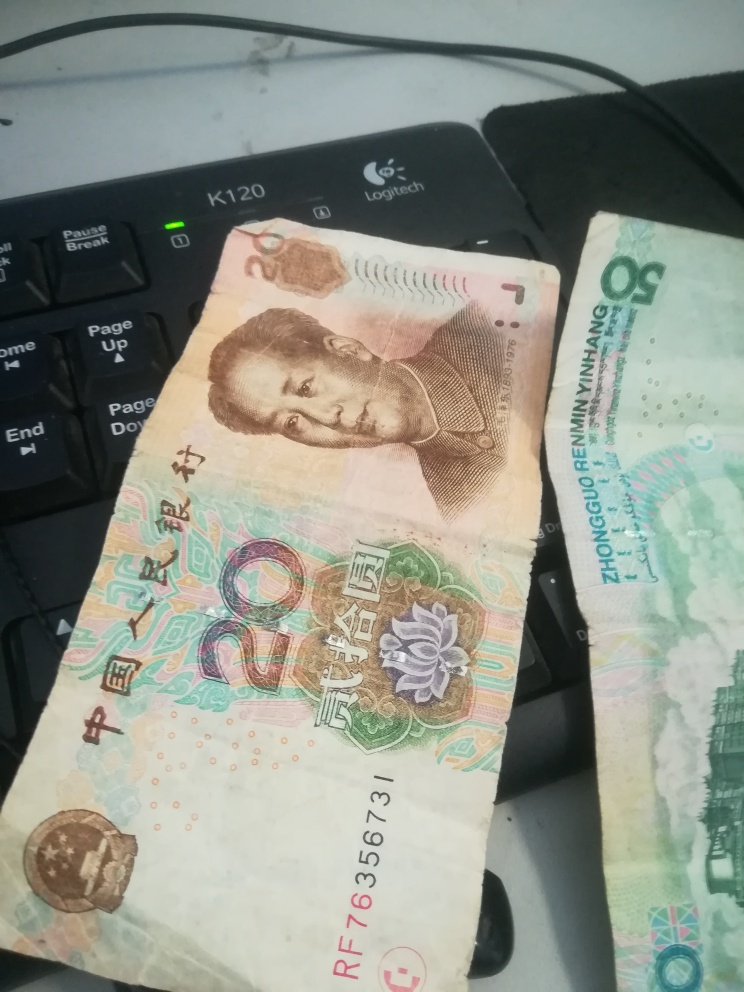rmb: (3, 228, 569, 992)
